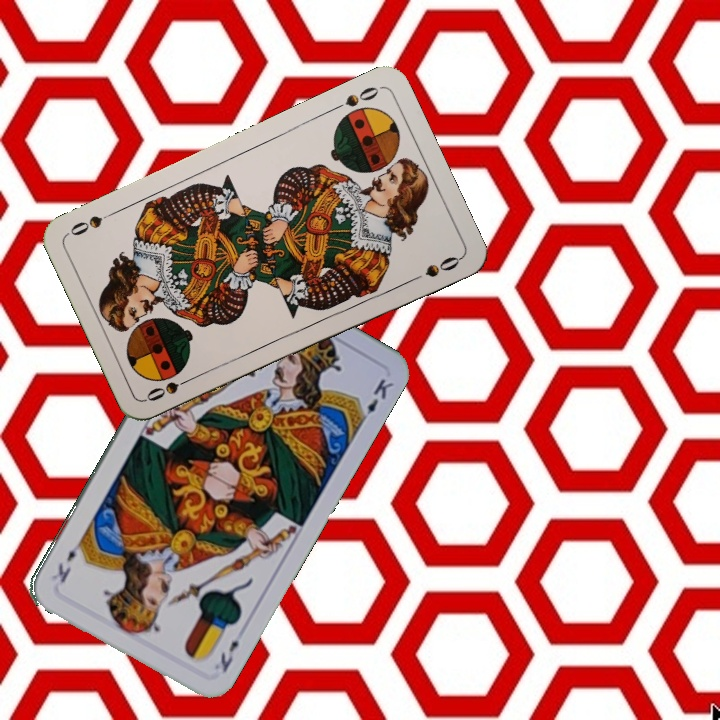EK: (216, 636, 242, 676)
SO: (142, 371, 198, 404), (327, 82, 383, 114)
